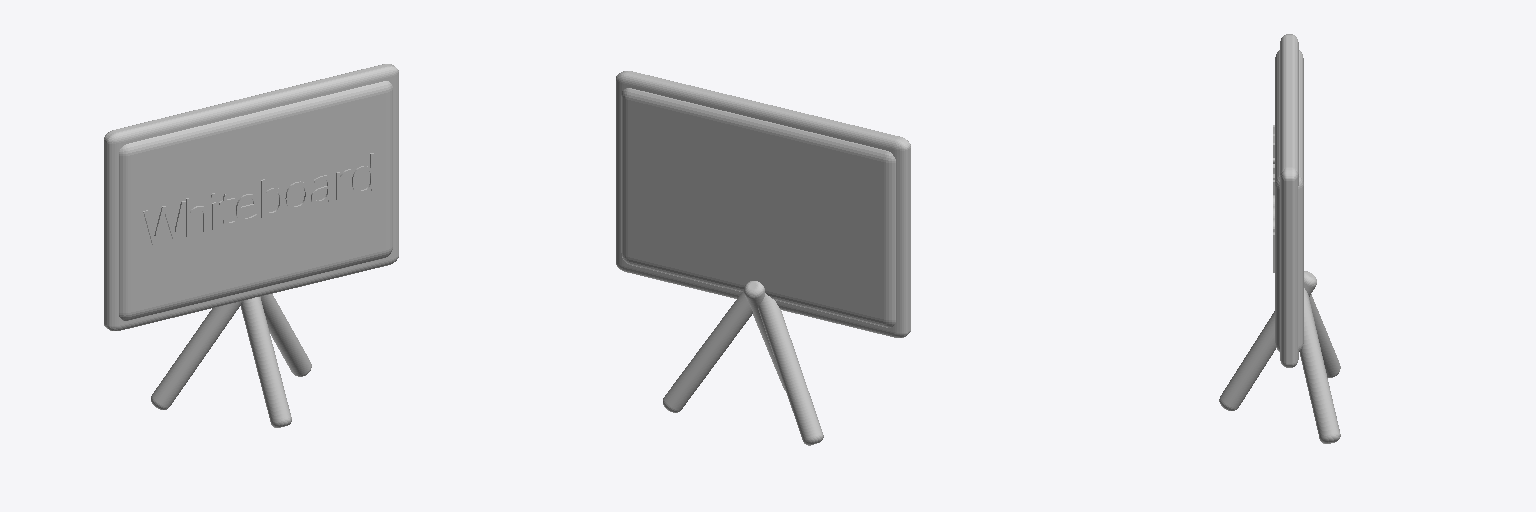
The model's file is whiteboard.obj.
3 renders of one model, left to right at view 1: azimuth 30°, elevation 25°; view 2: azimuth 150°, elevation 25°; view 3: azimuth 270°, elevation 25°, orthographic.
Visible parts, largest first — view 1: 014_Box, 001_Box_1, 000_Cylinder_2, 013_Cylinder, 012_Cylinder_1, 002_3D_Text_-_W; view 2: 014_Box, 001_Box_1, 013_Cylinder, 012_Cylinder_1, 000_Cylinder_2; view 3: 001_Box_1, 014_Box, 012_Cylinder_1, 000_Cylinder_2, 013_Cylinder.
Boxes of the visible parts, x1=… form: 014_Box: x1=119, y1=81, x2=392, y2=320; 001_Box_1: x1=104, y1=64, x2=398, y2=330; 000_Cylinder_2: x1=241, y1=297, x2=291, y2=427; 013_Cylinder: x1=151, y1=301, x2=241, y2=409; 012_Cylinder_1: x1=261, y1=294, x2=311, y2=376; 002_3D_Text_-_W: x1=143, y1=201, x2=185, y2=244; 014_Box: x1=621, y1=88, x2=895, y2=327; 001_Box_1: x1=616, y1=71, x2=910, y2=337; 013_Cylinder: x1=758, y1=293, x2=823, y2=445; 012_Cylinder_1: x1=663, y1=291, x2=752, y2=412; 000_Cylinder_2: x1=744, y1=281, x2=785, y2=390; 001_Box_1: x1=1280, y1=34, x2=1298, y2=367; 014_Box: x1=1275, y1=50, x2=1303, y2=351; 012_Cylinder_1: x1=1300, y1=288, x2=1340, y2=443; 000_Cylinder_2: x1=1219, y1=271, x2=1316, y2=410; 013_Cylinder: x1=1309, y1=294, x2=1340, y2=377.
Size of the model in its own units: 200 by 202 by 72.01.